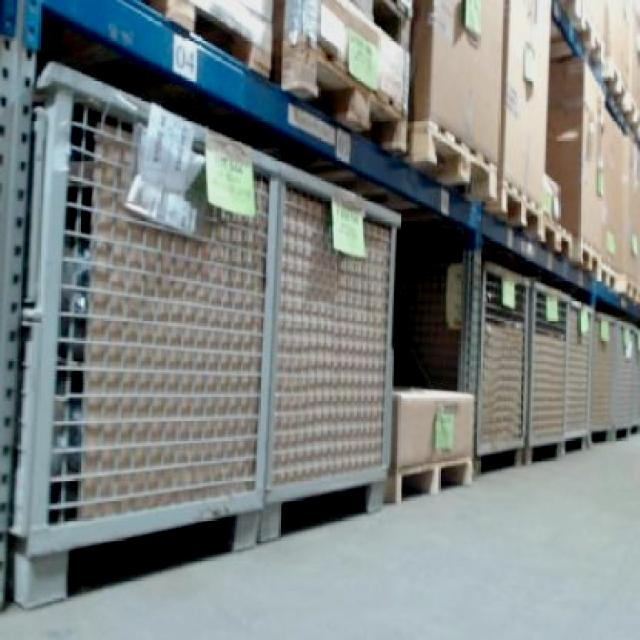pallets: (9, 62, 395, 603), (385, 388, 471, 500)
